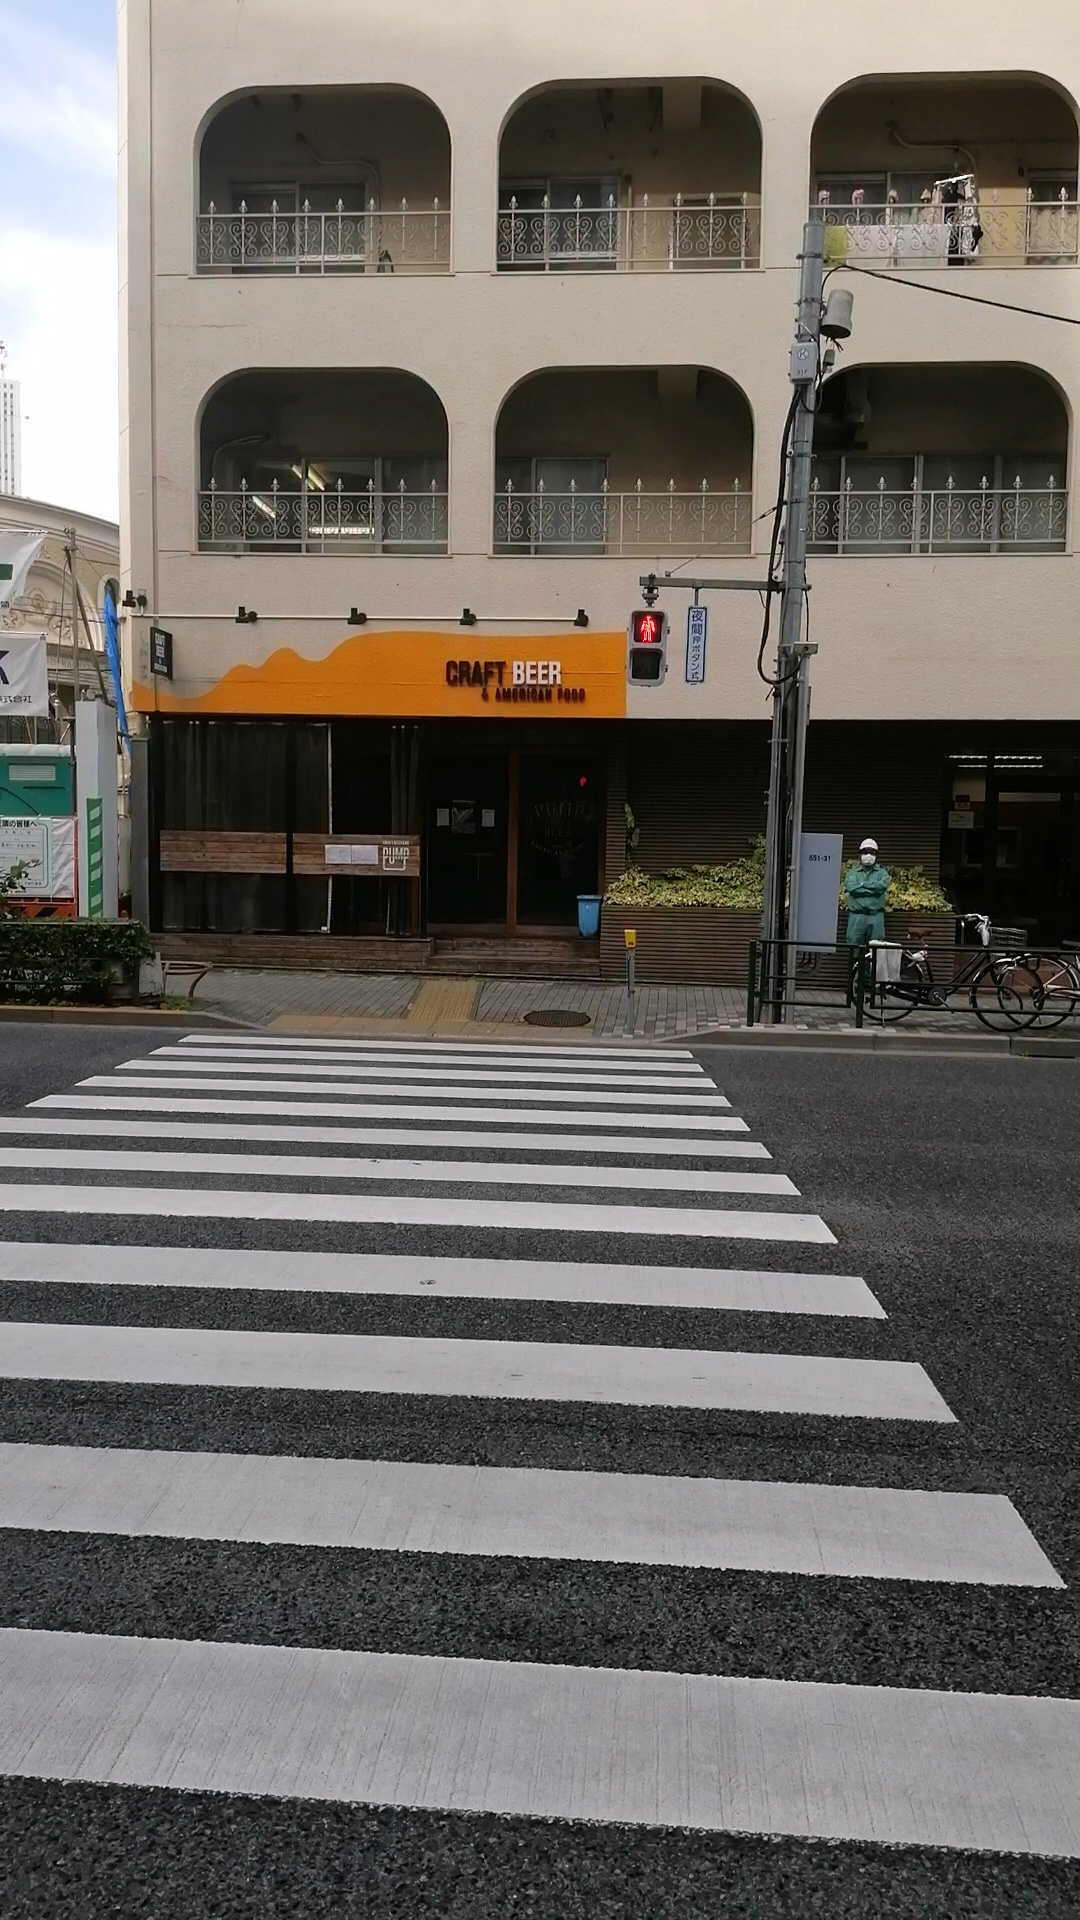red: (626, 607, 669, 688)
